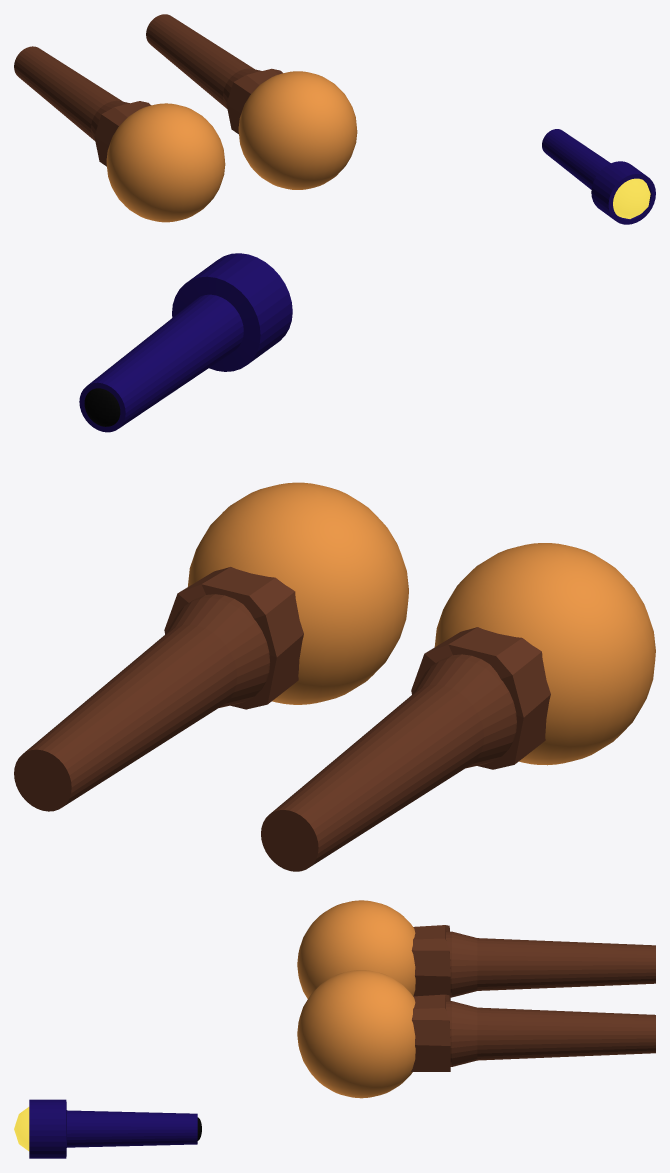
The model's file is Ethans Arms.glb.
3 views of the same model, one above another, from view 1: azimuth 30°, elevation 25°; view 2: azimuth 150°, elevation 25°; view 3: azimuth 270°, elevation 25° (orthographic). The views are drawn at different scales.
Visible parts, largest first — view 1: RHand, LHand, RArm, LArm, FlashBody, LPopOut, RPopOut, Lightbulb; view 2: RHand, LHand, LArm, RArm, FlashBody, LPopOut, RPopOut, FlashButton; view 3: RHand, RArm, LArm, LHand, FlashBody, RPopOut, LPopOut, Lightbulb.
Part boxes in pixels (bbox=[...]): RHand: bbox=[238, 71, 357, 189]; LHand: bbox=[106, 103, 225, 222]; RArm: bbox=[146, 14, 261, 108]; LArm: bbox=[14, 46, 129, 140]; FlashBody: bbox=[542, 129, 655, 224]; LPopOut: bbox=[94, 101, 151, 166]; RPopOut: bbox=[226, 68, 282, 134]; Lightbulb: bbox=[613, 178, 650, 218]; RHand: bbox=[188, 482, 408, 704]; LHand: bbox=[434, 543, 655, 765]; LArm: bbox=[261, 654, 516, 871]; RArm: bbox=[14, 594, 269, 811]; FlashBody: bbox=[79, 253, 292, 432]; LPopOut: bbox=[411, 627, 550, 769]; RPopOut: bbox=[164, 567, 303, 709]; FlashButton: bbox=[84, 388, 120, 426]; RHand: bbox=[297, 970, 415, 1098]; RArm: bbox=[446, 1001, 655, 1066]; LArm: bbox=[446, 931, 655, 997]; LHand: bbox=[297, 900, 415, 998]; FlashBody: bbox=[29, 1099, 197, 1158]; RPopOut: bbox=[411, 994, 450, 1071]; LPopOut: bbox=[411, 925, 450, 1000]; Lightbulb: bbox=[14, 1107, 29, 1151].
Size of the model in its own units: 5.75 by 1.53 by 7.64.
